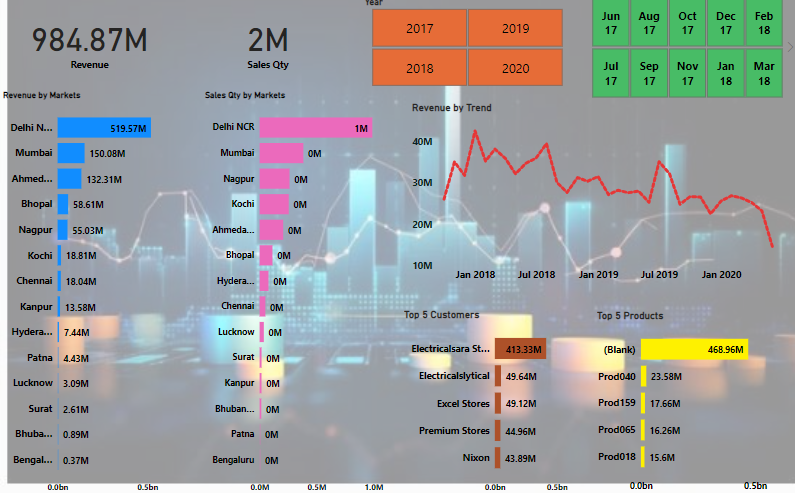

The dashboard page shown, as its layout file describes it:
{"tool":"powerbi","page":{"name":"Page 1","canvas":[1351,842],"ordinal":0},"visuals":[{"type":"card","fields":{"Values":["BaseMeasures.Revenue"]},"box":[0,0,301.2,163],"z":0},{"type":"card","fields":{"Values":["BaseMeasures.Sales Qty"]},"box":[301.2,1.8,299.4,161.2],"z":1000},{"type":"clusteredBarChart","title":"Revenue by Markets","fields":{"Y":["BaseMeasures.Revenue"],"Category":["sales markets.markets_name"]},"box":[0,163,334.8,687.4],"z":2000},{"type":"clusteredBarChart","title":"Sales Qty by Markets","fields":{"Y":["BaseMeasures.Sales Qty"],"Category":["sales markets.markets_name"]},"box":[340.2,163,334.8,687.4],"z":3000},{"type":"slicer","fields":{"Values":["sales date.year"]},"box":[601.2,0,370.5,163.3],"z":4000},{"type":"slicer","fields":{"Values":["sales date.cy_date"]},"box":[970.9,1.8,370.3,180.7],"z":5000},{"type":"clusteredBarChart","title":"Top 5 Customers","fields":{"Y":["BaseMeasures.Revenue"],"Category":["sales customers.custmer_name"]},"box":[674.9,530.4,326.4,319.6],"z":6000},{"type":"clusteredBarChart","title":"Top 5 Products","fields":{"Y":["BaseMeasures.Revenue"],"Category":["sales products.product_code"]},"box":[1001,531.5,349,318.9],"z":7000},{"type":"lineChart","title":"Revenue by Trend","fields":{"Y":["BaseMeasures.Revenue"],"Category":["sales date.cy_date"]},"box":[689.4,182.4,650.9,312.9],"z":8000}]}

Visuals, with their boxes in screenshot pixels (x1, y1, x2, y2), scaled from the page's 1351x842 canvas onto the 795x493 screenshot:
card - BaseMeasures.Revenue: crop(0, 0, 177, 95)
card - BaseMeasures.Sales Qty: crop(177, 1, 353, 95)
"Revenue by Markets" clusteredBarChart: crop(0, 95, 197, 492)
"Sales Qty by Markets" clusteredBarChart: crop(200, 95, 397, 492)
slicer - sales date.year: crop(354, 0, 572, 96)
slicer - sales date.cy_date: crop(571, 1, 789, 107)
"Top 5 Customers" clusteredBarChart: crop(397, 311, 589, 492)
"Top 5 Products" clusteredBarChart: crop(589, 311, 794, 492)
"Revenue by Trend" lineChart: crop(406, 107, 789, 290)
